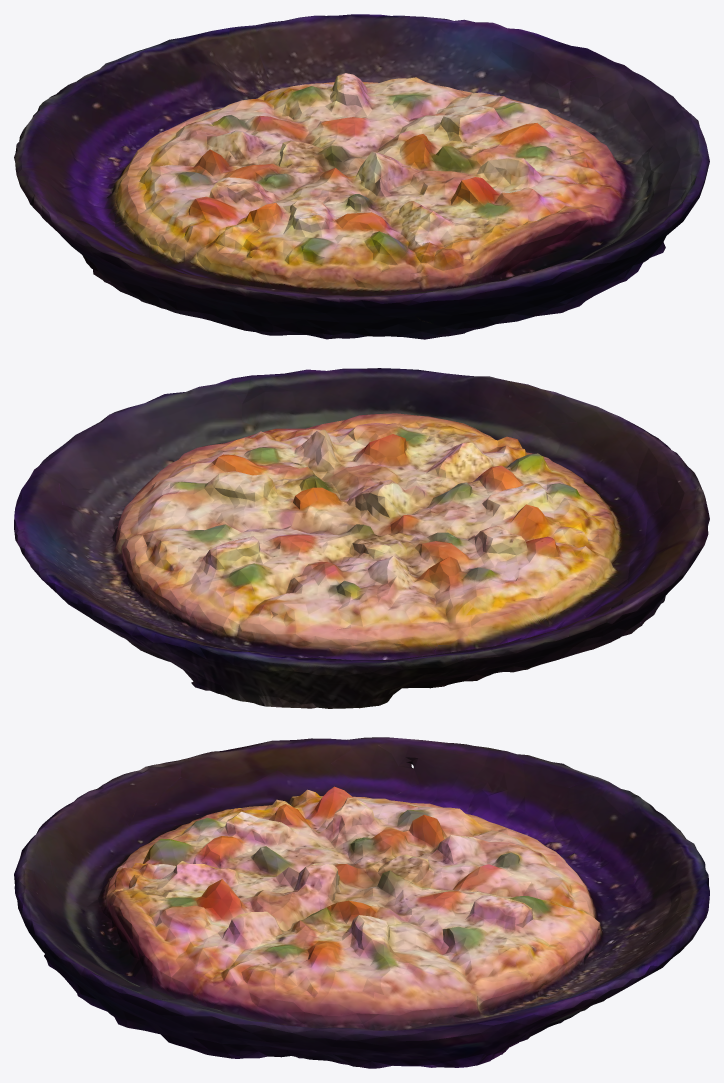
File: pija.glb
The picture shows the model from 3 angles, top to bottom: view 1: azimuth 30°, elevation 25°; view 2: azimuth 150°, elevation 25°; view 3: azimuth 270°, elevation 25°; orthographic projection.
Parts seen in each view (by area): view 1: Mesh_0; view 2: Mesh_0; view 3: Mesh_0.
Part boxes in pixels (x1=…): Mesh_0: x1=14, y1=14, x2=709, y2=339; Mesh_0: x1=14, y1=368, x2=709, y2=708; Mesh_0: x1=14, y1=737, x2=709, y2=1068.
Size of the model in its own units: 0.2751 by 0.0324 by 0.2742.
Materials: 1 (1 with a texture image).
